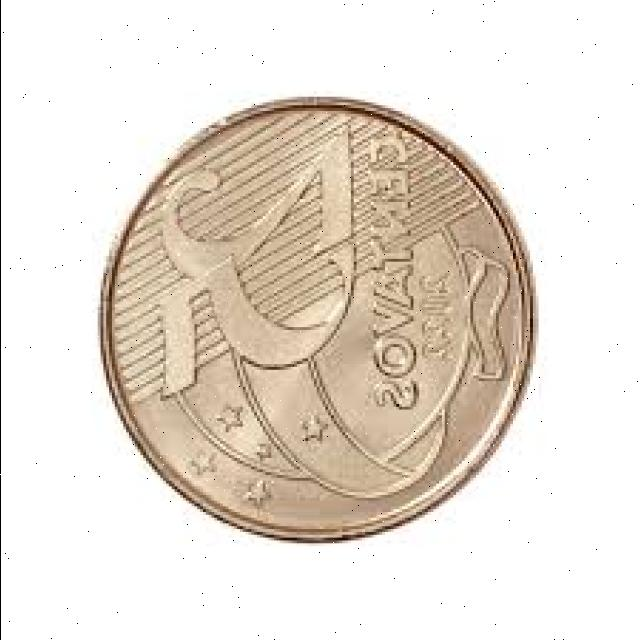25 cent: (98, 102, 520, 540)
